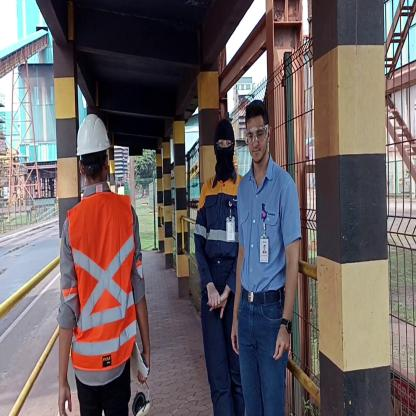Balaclava: (211, 120, 236, 175)
Capacete: (74, 108, 114, 157)
Operacional: (194, 174, 239, 259)
colete: (65, 198, 140, 364)
